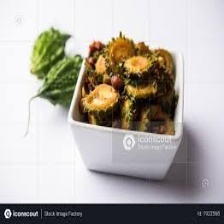sabzi: (75, 36, 179, 136)
